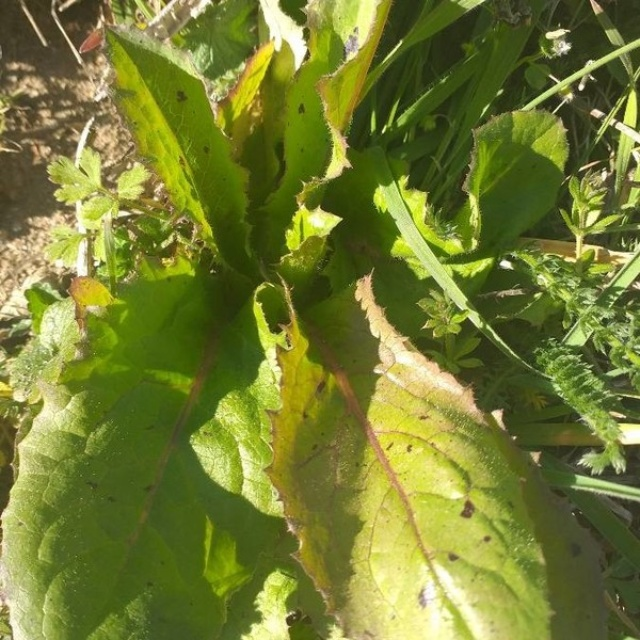obstacle: (123, 94, 613, 594)
